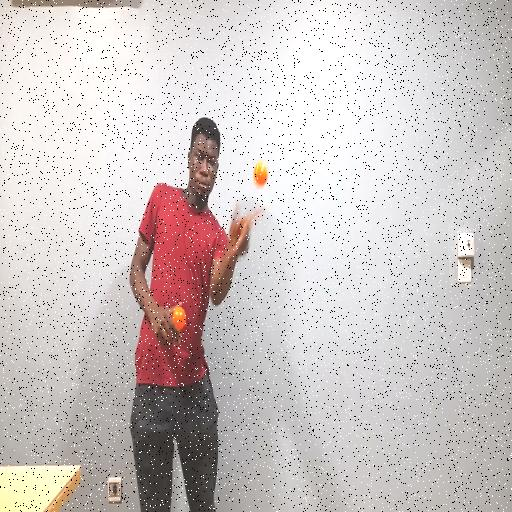plastic-ball: (244, 147, 278, 199)
